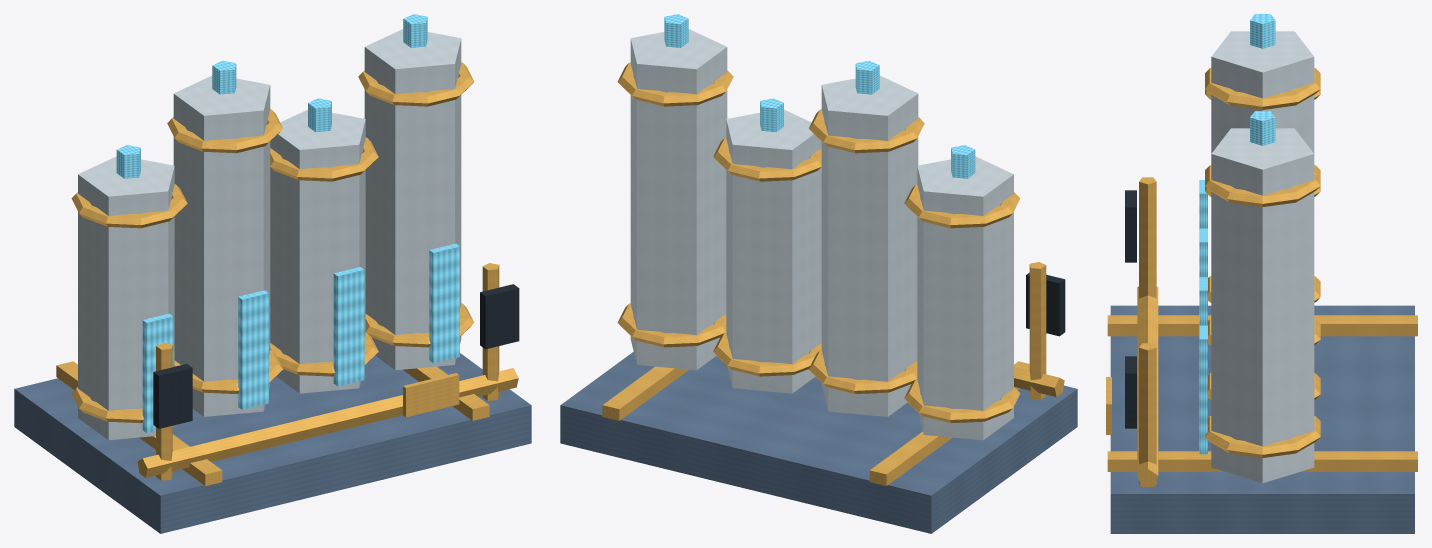
Rendered from atlas100-s052-a01.lod1.glb.
3 renders of one model, left to right at view 1: azimuth 30°, elevation 25°; view 2: azimuth 150°, elevation 25°; view 3: azimuth 270°, elevation 25°, orthographic. The views are drawn at different scales.
Visible parts, largest first — view 1: atlas100-s052-a01:part-000, atlas100-s052-a01:part-018, atlas100-s052-a01:part-008, atlas100-s052-a01:part-003, atlas100-s052-a01:part-013, atlas100-s052-a01:part-027, atlas100-s052-a01:part-017, atlas100-s052-a01:part-012, atlas100-s052-a01:part-022, atlas100-s052-a01:part-026, atlas100-s052-a01:part-024, atlas100-s052-a01:part-007 (+17 smaller); view 2: atlas100-s052-a01:part-000, atlas100-s052-a01:part-018, atlas100-s052-a01:part-008, atlas100-s052-a01:part-003, atlas100-s052-a01:part-013, atlas100-s052-a01:part-023, atlas100-s052-a01:part-001, atlas100-s052-a01:part-002, atlas100-s052-a01:part-020, atlas100-s052-a01:part-010, atlas100-s052-a01:part-004, atlas100-s052-a01:part-005 (+10 smaller); view 3: atlas100-s052-a01:part-000, atlas100-s052-a01:part-018, atlas100-s052-a01:part-008, atlas100-s052-a01:part-002, atlas100-s052-a01:part-001, atlas100-s052-a01:part-027, atlas100-s052-a01:part-025, atlas100-s052-a01:part-023, atlas100-s052-a01:part-010, atlas100-s052-a01:part-020, atlas100-s052-a01:part-019, atlas100-s052-a01:part-022 (+7 smaller).
Part boxes in pixels (x1,y1,x2,y2): atlas100-s052-a01:part-000: (14,353,531,533); atlas100-s052-a01:part-018: (364,29,461,370); atlas100-s052-a01:part-008: (173,75,270,416); atlas100-s052-a01:part-003: (78,156,174,440); atlas100-s052-a01:part-013: (270,109,365,393); atlas100-s052-a01:part-027: (137,368,518,477); atlas100-s052-a01:part-017: (333,267,364,386); atlas100-s052-a01:part-012: (238,290,268,409); atlas100-s052-a01:part-022: (429,243,459,363); atlas100-s052-a01:part-026: (480,284,519,349); atlas100-s052-a01:part-024: (153,364,192,428); atlas100-s052-a01:part-007: (142,313,173,432); atlas100-s052-a01:part-000: (560,352,1077,533); atlas100-s052-a01:part-018: (630,29,727,370); atlas100-s052-a01:part-008: (821,75,918,416); atlas100-s052-a01:part-003: (917,156,1013,440); atlas100-s052-a01:part-013: (726,109,821,393); atlas100-s052-a01:part-023: (1029,262,1046,399); atlas100-s052-a01:part-001: (869,361,1029,485); atlas100-s052-a01:part-002: (602,366,688,420); atlas100-s052-a01:part-020: (617,62,733,106); atlas100-s052-a01:part-010: (809,109,924,153); atlas100-s052-a01:part-004: (904,379,1020,423); atlas100-s052-a01:part-005: (904,184,1020,228); atlas100-s052-a01:part-000: (1110,305,1414,533); atlas100-s052-a01:part-018: (1211,128,1314,483); atlas100-s052-a01:part-008: (1211,31,1314,153); atlas100-s052-a01:part-002: (1107,451,1417,471); atlas100-s052-a01:part-001: (1107,315,1417,336); atlas100-s052-a01:part-027: (1137,286,1158,486); atlas100-s052-a01:part-025: (1139,343,1156,484); atlas100-s052-a01:part-023: (1139,177,1156,298); atlas100-s052-a01:part-010: (1205,67,1320,109); atlas100-s052-a01:part-020: (1205,165,1320,206); atlas100-s052-a01:part-019: (1205,415,1320,457); atlas100-s052-a01:part-022: (1199,325,1207,454).
Size of the model in its own units: 2.76 by 2.59 by 1.85.
5 materials, 5 textured.
